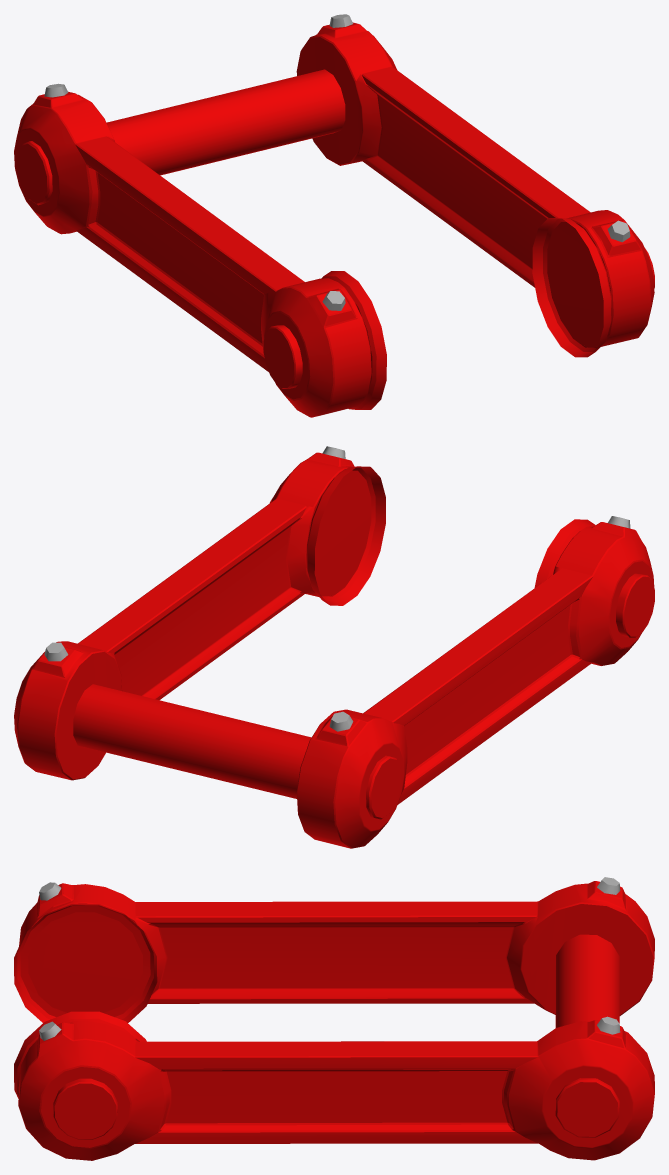
File: ExcavatorMachine_Linkage02_01a_snaps005.fbx
3 views of the same model, one above another, from view 1: azimuth 30°, elevation 25°; view 2: azimuth 150°, elevation 25°; view 3: azimuth 270°, elevation 25° (orthographic).
Parts seen in each view (by area): view 1: ExcavatorMachine_Linkage02_01a_snaps005; view 2: ExcavatorMachine_Linkage02_01a_snaps005; view 3: ExcavatorMachine_Linkage02_01a_snaps005.
Part boxes in pixels (x1,y1,x2,y2): ExcavatorMachine_Linkage02_01a_snaps005: [14, 14, 654, 417]; ExcavatorMachine_Linkage02_01a_snaps005: [14, 446, 654, 848]; ExcavatorMachine_Linkage02_01a_snaps005: [14, 877, 654, 1160].
Size of the model in its own units: 58.91 by 21.58 by 90.29.
